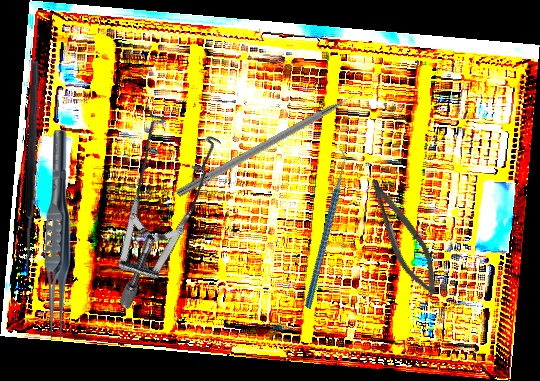Chopper: (253, 143, 395, 310)
Hook Surgical: (174, 81, 376, 200), (22, 61, 51, 281)
Micro Scissor: (354, 172, 451, 302)
Speculum: (38, 89, 268, 312)
Tissue Forceps: (44, 130, 71, 341)
